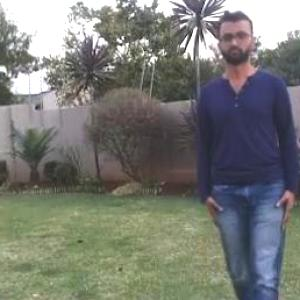follow: (203, 8, 298, 299)
